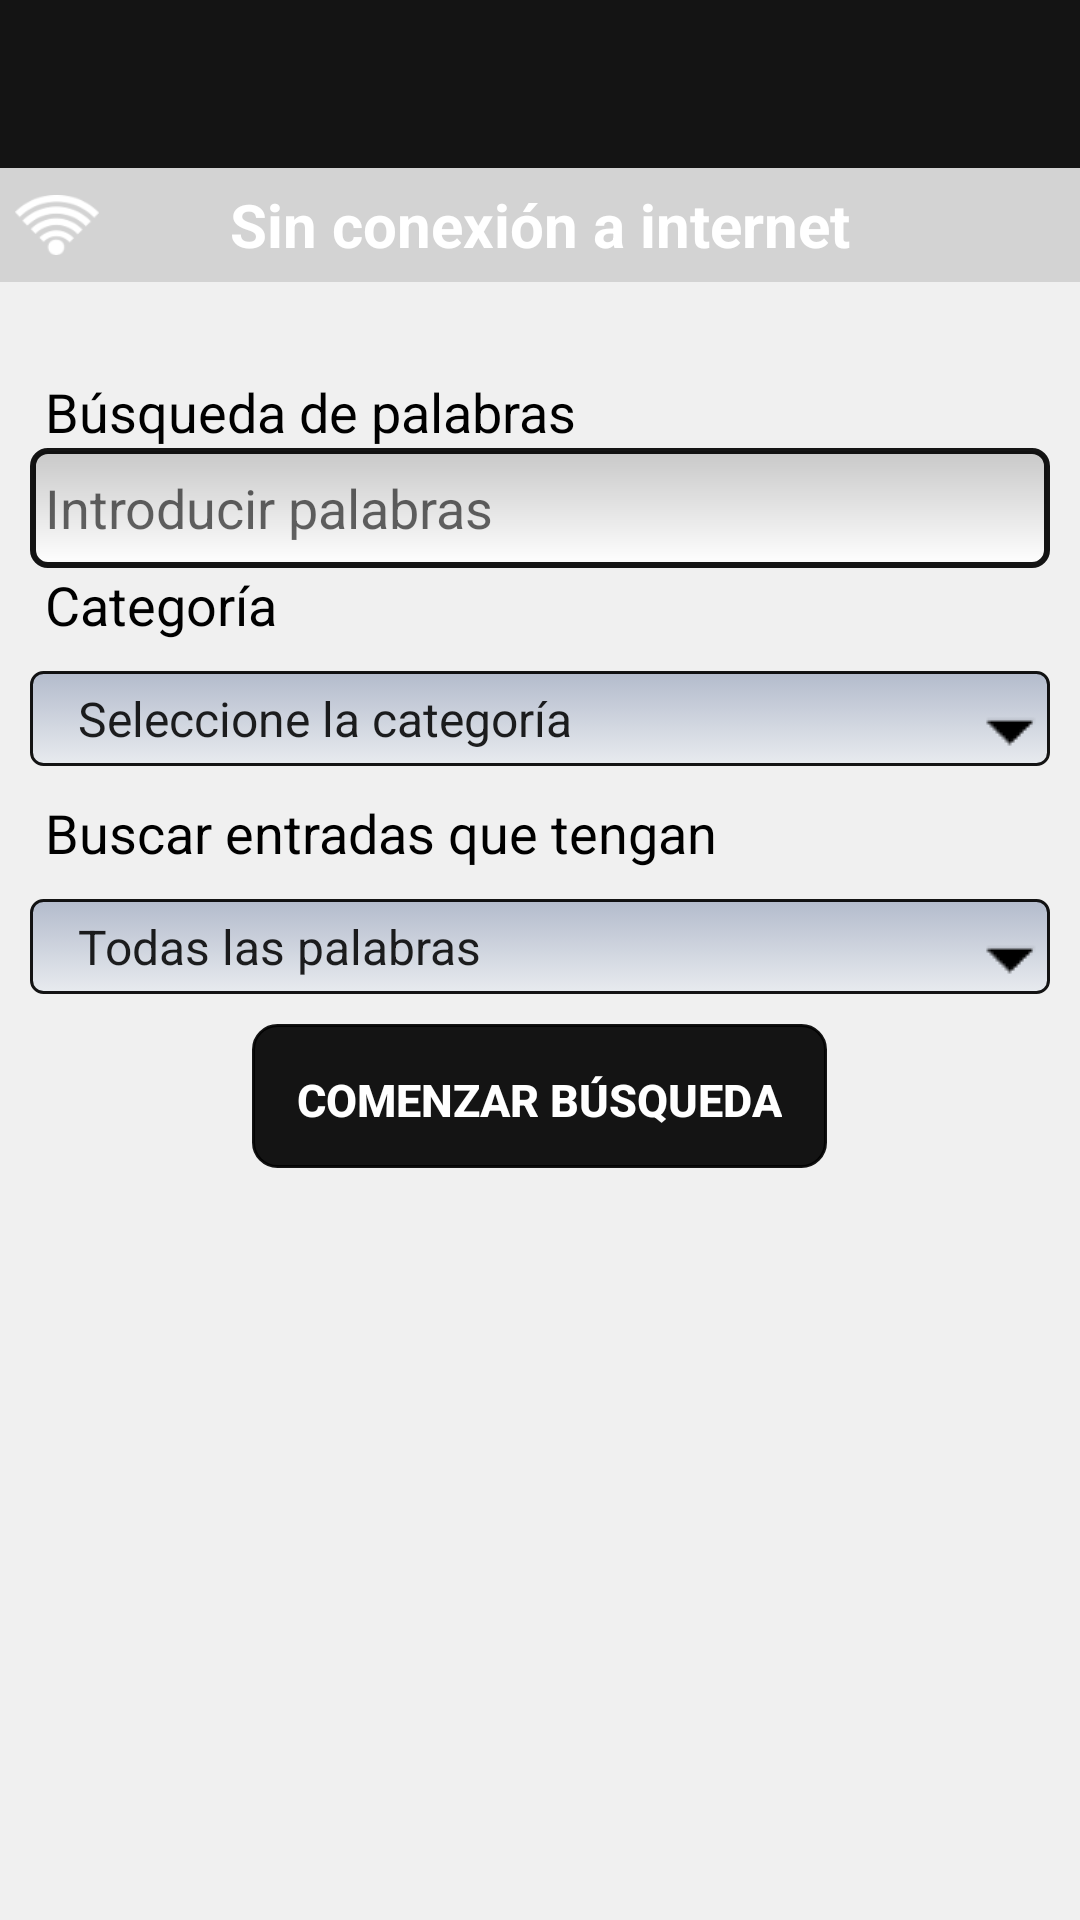

Where icons sit on this 1080w x 1920h app screen, as {"x1": x1, "y1": y1, "x2": x2, "y2": y2}:
conexion: {"x1": 16, "y1": 195, "x2": 98, "y2": 255}
